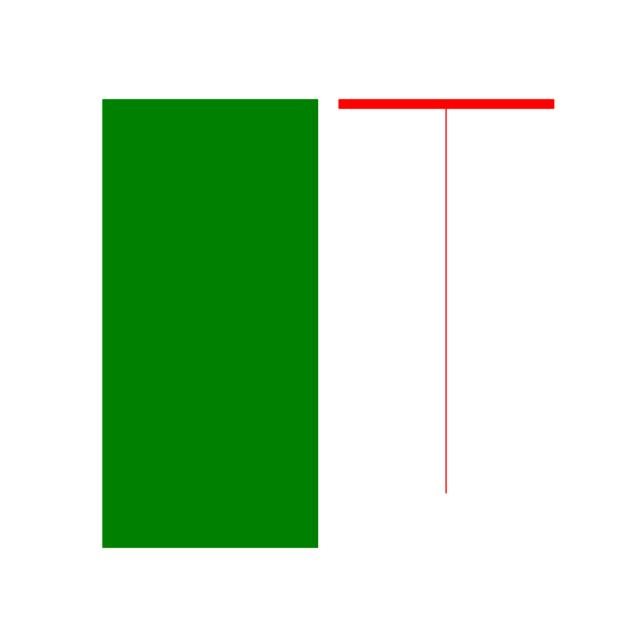Bullish Marubozu: (103, 98, 320, 548)
Dragonfly Doji: (327, 95, 565, 498)
